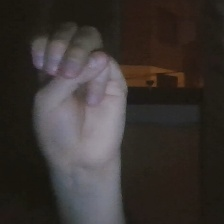M: (21, 14, 137, 183)
